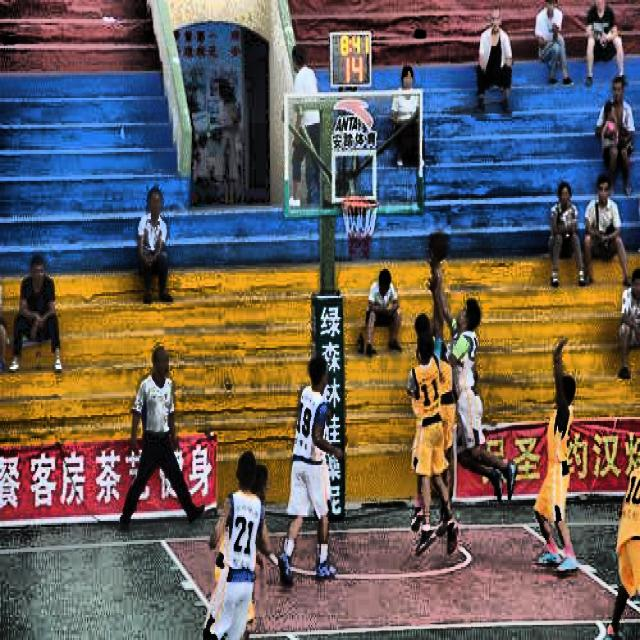rim: (340, 199, 379, 258)
